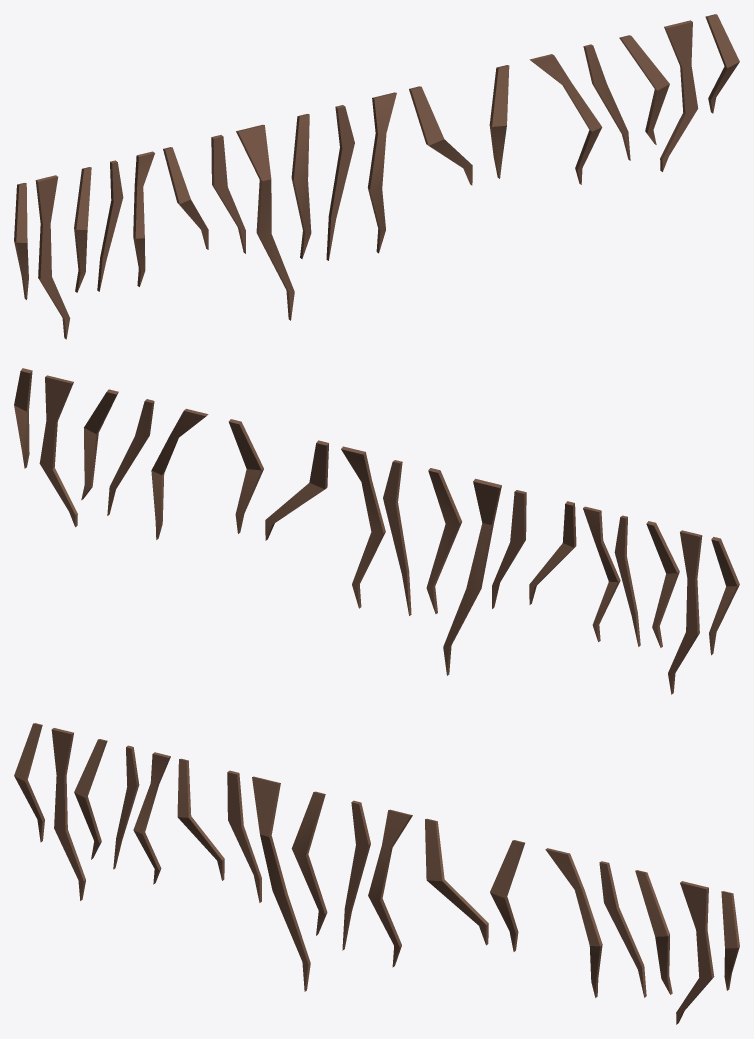
Rendered from Grass_Roots.FBX.
The picture shows the model from 3 angles, top to bottom: view 1: azimuth 30°, elevation 25°; view 2: azimuth 150°, elevation 25°; view 3: azimuth 330°, elevation 25°; orthographic projection.
Parts seen in each view (by area): view 1: Grass_Roots; view 2: Grass_Roots; view 3: Grass_Roots.
Part boxes in pixels (x1,y1,x2,y2): Grass_Roots: (14, 14, 739, 339); Grass_Roots: (14, 368, 739, 694); Grass_Roots: (14, 723, 739, 1024).
Size of the model in its own units: 787 by 210 by 19.37.
